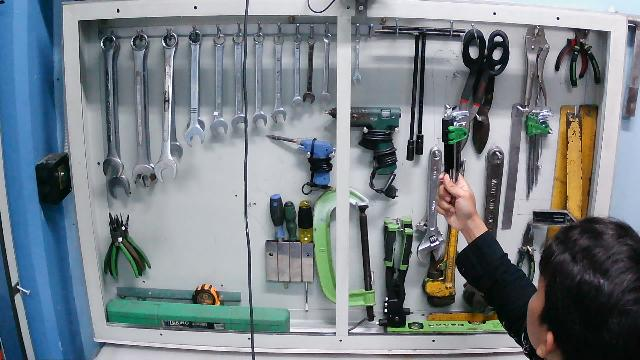kunci_l: (435, 103, 473, 219)
